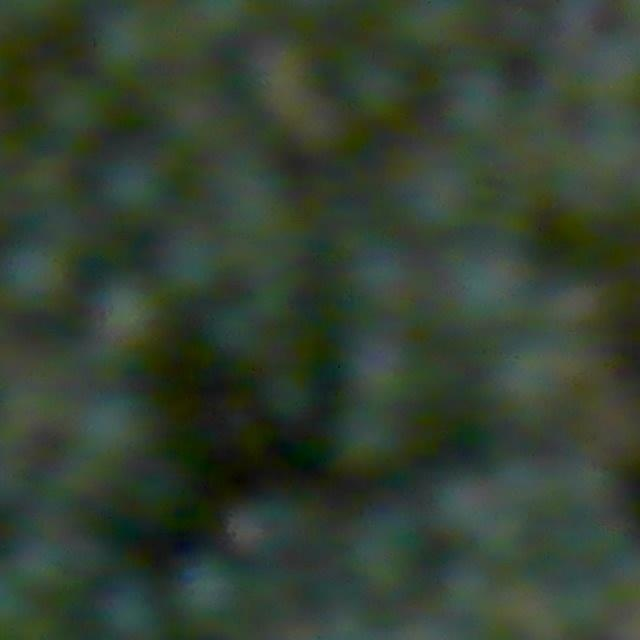SeaGrape: (440, 245, 532, 329), (45, 65, 123, 157), (343, 330, 424, 408), (224, 492, 310, 564), (345, 237, 421, 314), (353, 522, 436, 592), (87, 277, 160, 354), (173, 555, 243, 630), (464, 517, 548, 579), (334, 403, 405, 474), (75, 400, 143, 470), (98, 153, 169, 220), (92, 575, 162, 640), (159, 228, 225, 296), (4, 244, 72, 309), (567, 526, 640, 585), (26, 166, 88, 225), (259, 363, 318, 422), (23, 534, 74, 593), (507, 460, 553, 517)
